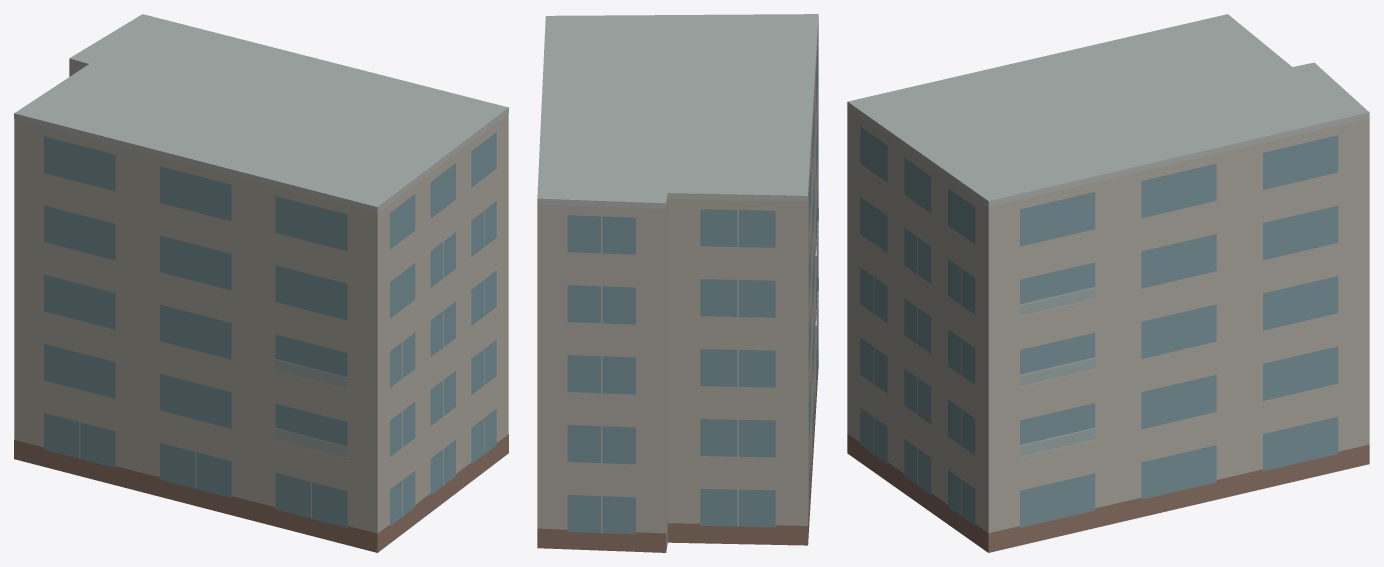
Rendered from survey-upis-32904716.glb.
3 renders of one model, left to right at view 1: azimuth 30°, elevation 25°; view 2: azimuth 150°, elevation 25°; view 3: azimuth 270°, elevation 25°, orthographic.
Visible parts, largest first — view 1: survey-upis-32904716.tmp; view 2: survey-upis-32904716.tmp; view 3: survey-upis-32904716.tmp.
Part boxes in pixels (x1,y1,x2,y2): survey-upis-32904716.tmp: (14,14,508,552); survey-upis-32904716.tmp: (537,14,818,552); survey-upis-32904716.tmp: (847,14,1369,552).
Bounding box in the file's own units: 16.55 × 14.5 × 19.51.
